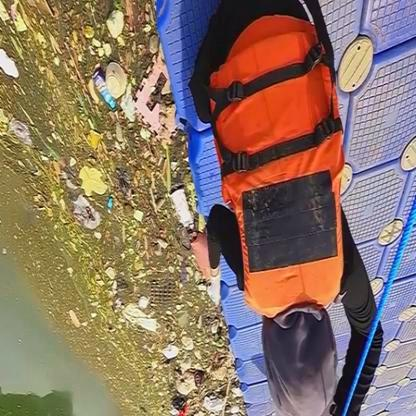Plastic: (163, 181, 193, 232), (103, 60, 128, 105), (92, 70, 116, 112)
Trash: (120, 299, 162, 336), (77, 160, 106, 200), (72, 194, 106, 228), (9, 114, 30, 155), (200, 390, 226, 416), (122, 91, 138, 129), (166, 390, 190, 413)
